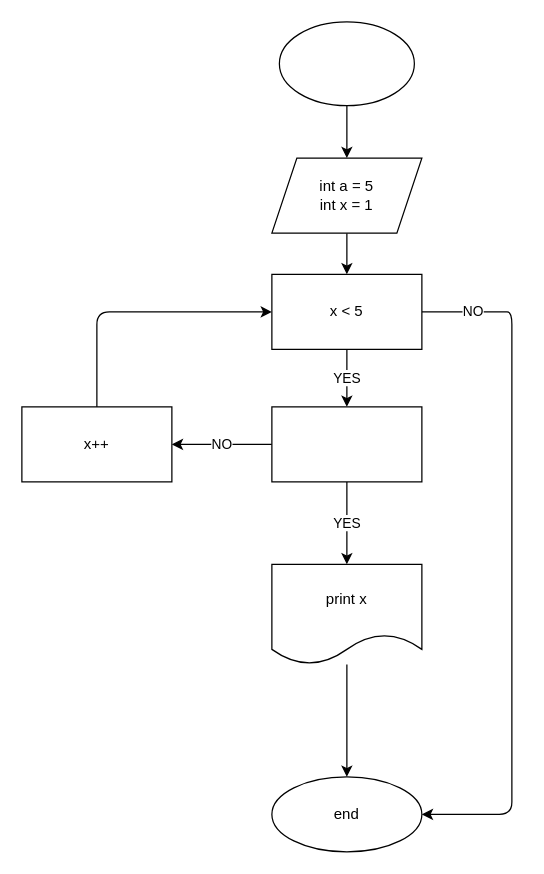
The diagram is 544 pixels wide and 874 high, and some of its shapes have lost their labels. Each missing label, with the centre of its shape:
"start" belongs at pixel 346 63.
"x % 2==0" belongs at pixel 346 444.
